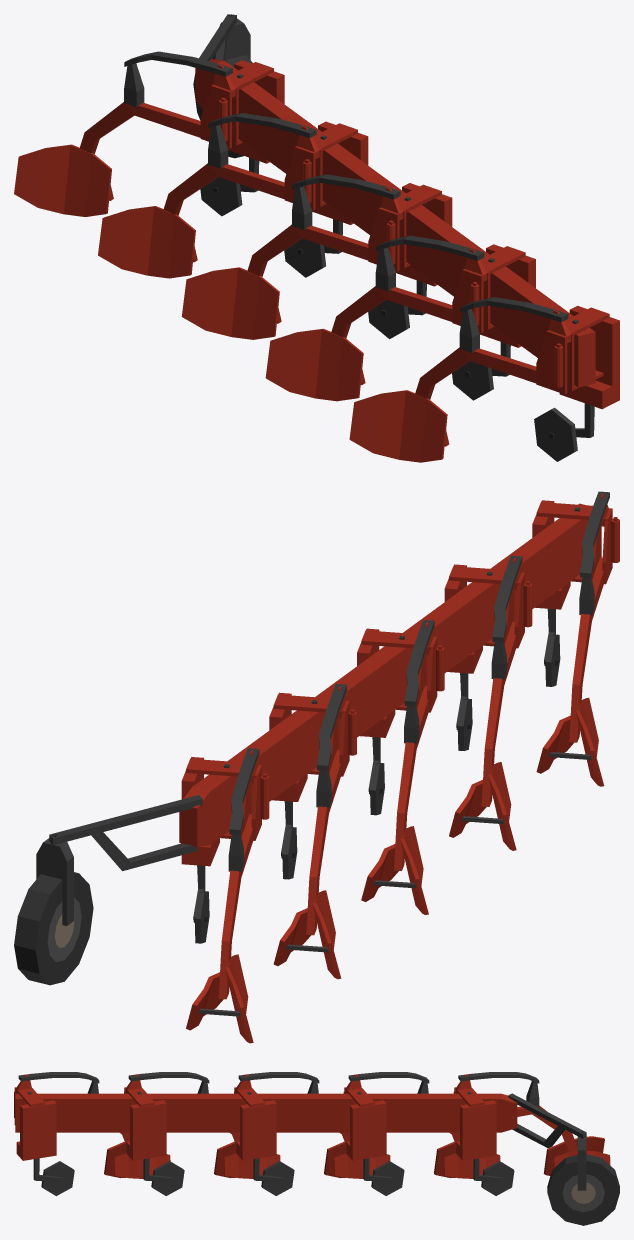
File: Plow_1.fbx
The picture shows the model from 3 angles, top to bottom: view 1: azimuth 30°, elevation 25°; view 2: azimuth 150°, elevation 25°; view 3: azimuth 270°, elevation 25°; orthographic projection. The views are drawn at different scales.
Visible parts, largest first — view 1: Plow_1; view 2: Plow_1; view 3: Plow_1.
Boxes of the visible parts, x1,y1,x2,y2 form: Plow_1: [14, 14, 619, 462]; Plow_1: [14, 491, 619, 1043]; Plow_1: [14, 1072, 619, 1225].
Bounding box in the file's own units: 183 × 153 × 668.
